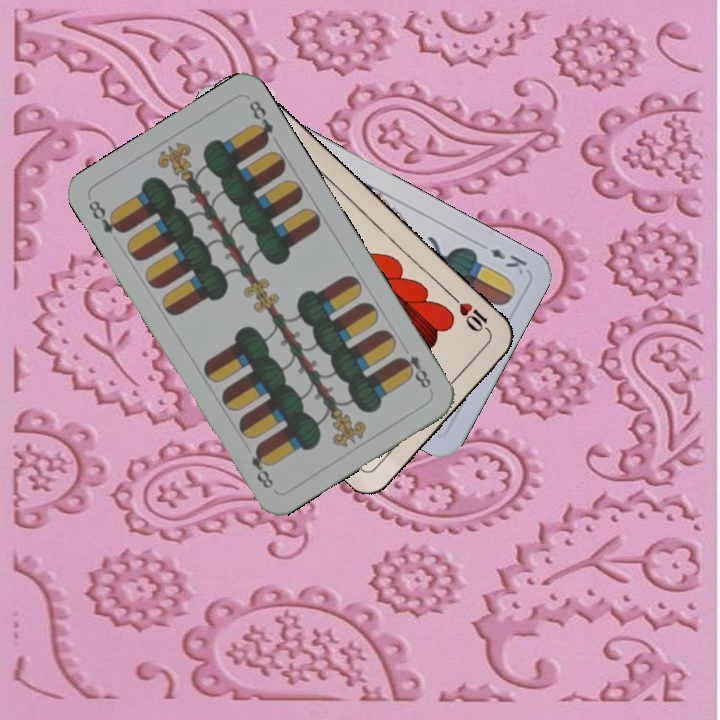E8: (84, 195, 128, 237), (394, 351, 434, 391)
EK: (486, 244, 530, 277)
H10: (447, 291, 494, 337)
